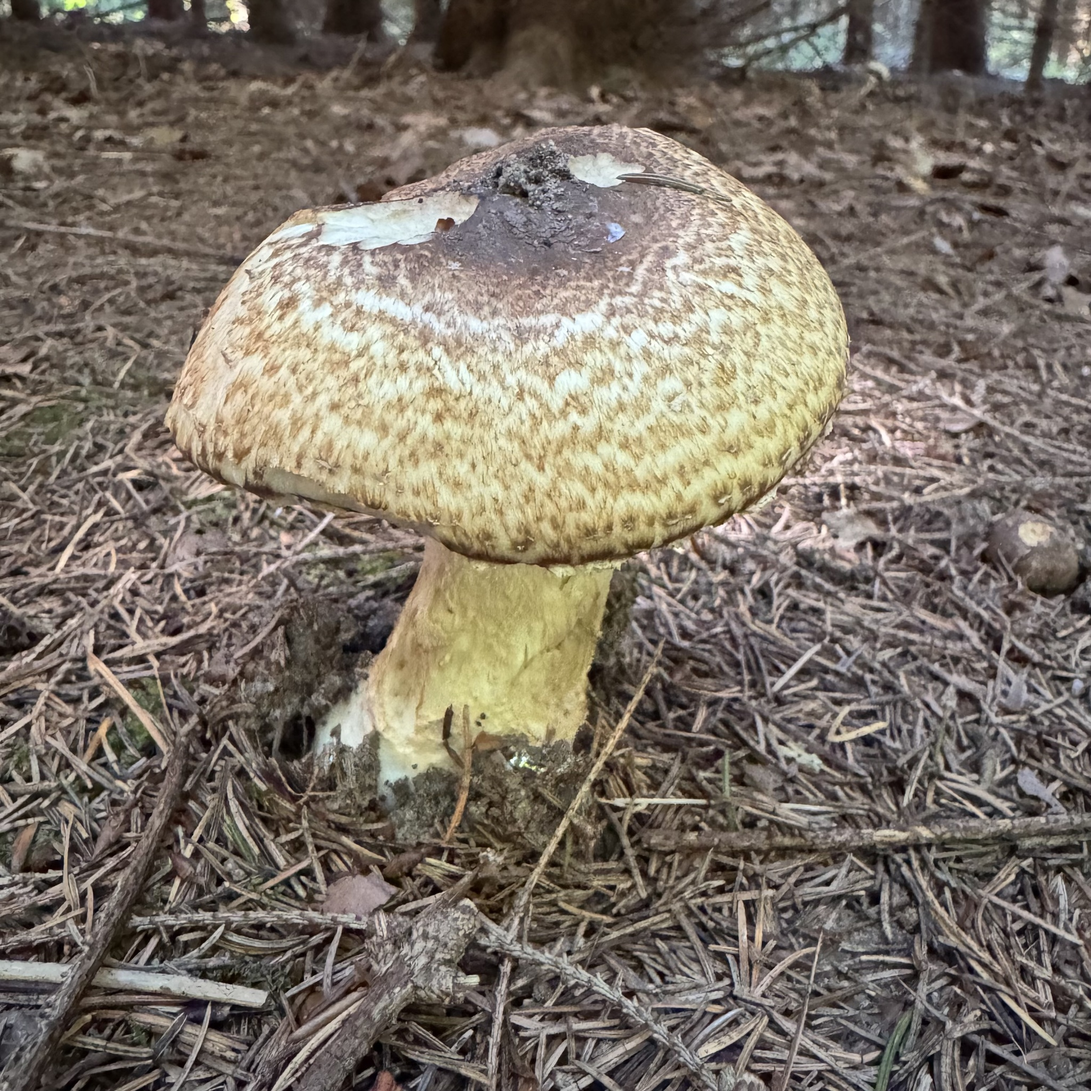Cap: (167, 125, 848, 566)
Stem: (365, 540, 612, 779)
